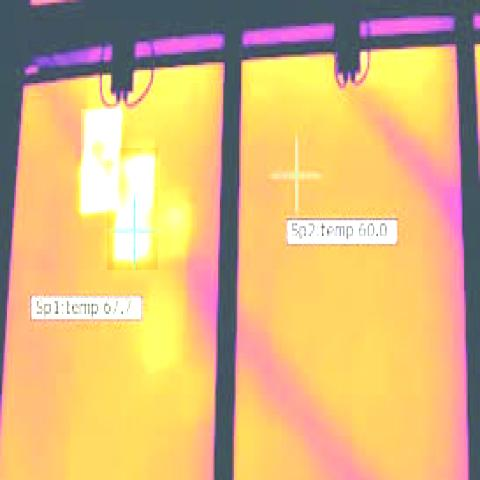fault: (107, 148, 158, 270), (81, 109, 121, 213)
